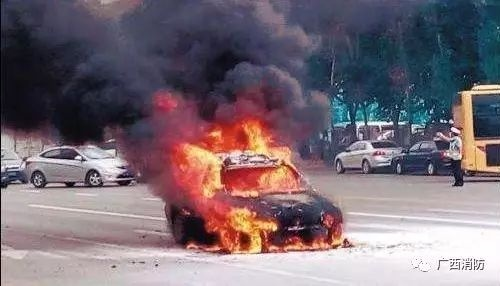fire: (172, 114, 348, 255)
